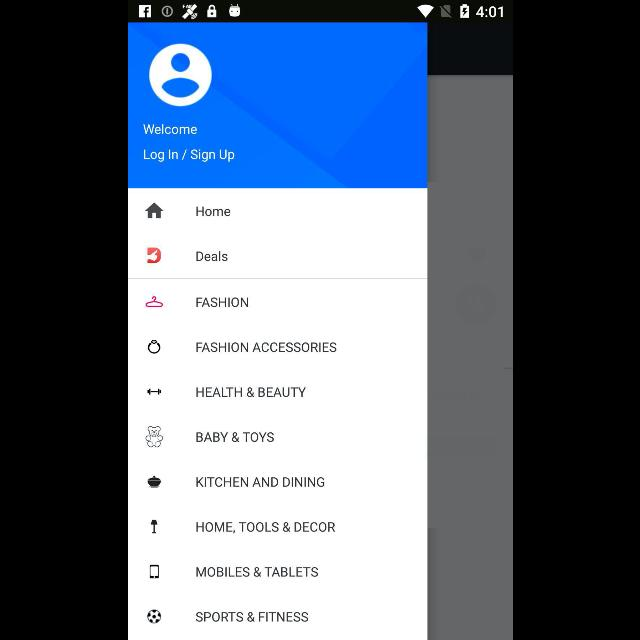icon: (148, 43, 212, 107), (144, 202, 164, 218)
image: (145, 426, 163, 448), (147, 248, 161, 264), (145, 296, 163, 308), (147, 609, 161, 623), (147, 476, 161, 488), (148, 340, 160, 354), (150, 565, 158, 579), (150, 520, 158, 534), (147, 388, 161, 396)
panel: (128, 22, 426, 640)
text: (196, 522, 334, 534), (195, 566, 317, 578), (196, 477, 324, 488), (196, 342, 336, 352), (142, 149, 234, 163), (195, 612, 308, 622), (195, 387, 305, 397), (196, 432, 274, 442), (142, 124, 196, 134), (196, 298, 248, 308), (195, 250, 227, 262), (196, 207, 230, 217)
uppertaskbar: (128, 1, 512, 23)
